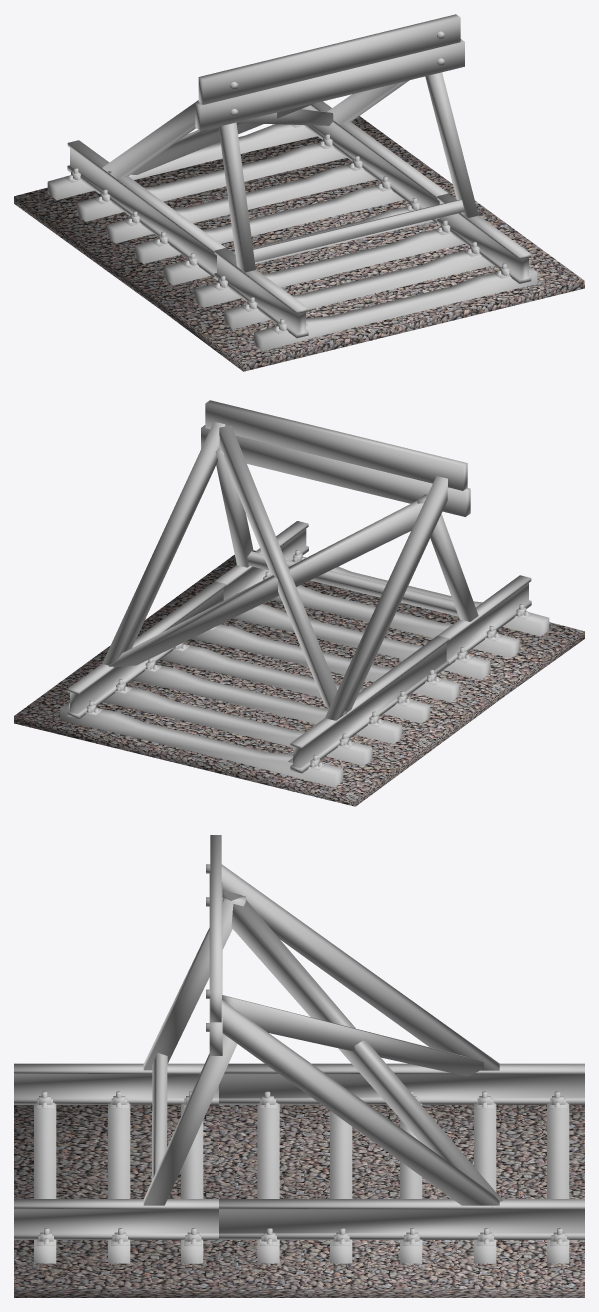
The model's file is track_end_wood.fbx.
3 views of the same model, one above another, from view 1: azimuth 30°, elevation 25°; view 2: azimuth 150°, elevation 25°; view 3: azimuth 270°, elevation 25° (orthographic). The views are drawn at different scales.
Parts seen in each view (by area): view 1: wood, ground, rails; view 2: rails, wood, ground; view 3: rails, ground, wood.
Part boxes in pixels (left/top/right/bottom): wood: left=47, top=14, right=537, bottom=350; ground: left=14, top=116, right=584, bottom=371; rails: left=64, top=31, right=531, bottom=338; rails: left=65, top=421, right=532, bottom=773; wood: left=60, top=400, right=549, bottom=787; ground: left=14, top=550, right=584, bottom=806; rails: left=14, top=864, right=584, bottom=1245; ground: left=14, top=1105, right=584, bottom=1297; wood: left=34, top=835, right=569, bottom=1263.
Bounding box in the file's own units: 2.85 × 1.79 × 3.32.
